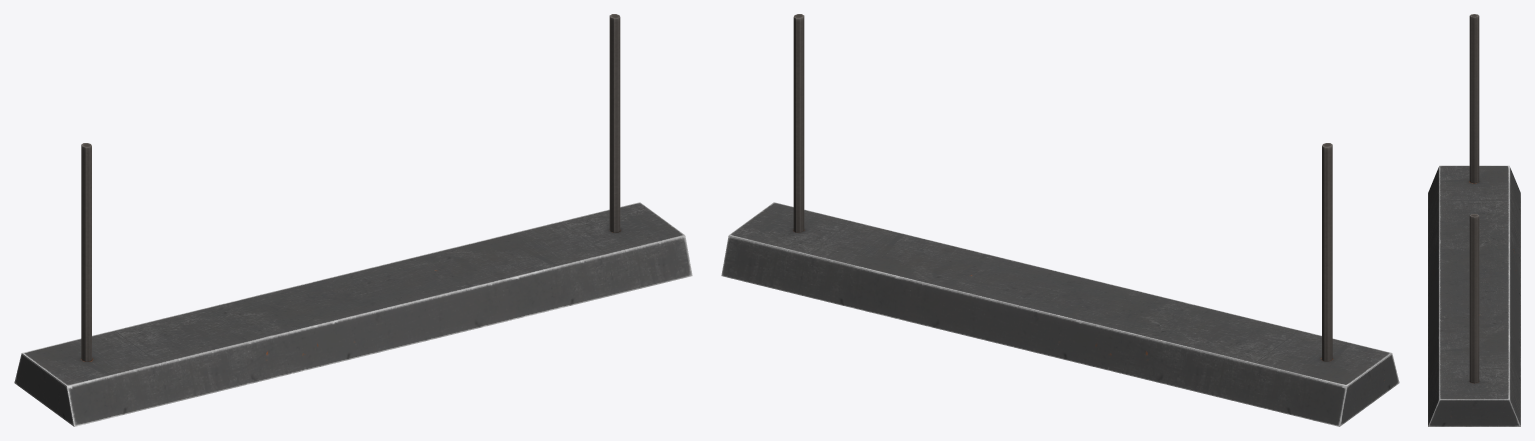
File: Light.fbx
The picture shows the model from 3 angles, left to right: view 1: azimuth 30°, elevation 25°; view 2: azimuth 150°, elevation 25°; view 3: azimuth 270°, elevation 25°; orthographic projection. The views are drawn at different scales.
Parts seen in each view (by area): view 1: Cube.010, Cylinder.003, Cylinder.002; view 2: Cube.010, Cylinder.003, Cylinder.002; view 3: Cube.010, Cylinder.002, Cylinder.003.
Part boxes in pixels (x1,y1,x2,y2): Cube.010: [14, 202, 692, 426]; Cylinder.003: [609, 14, 620, 232]; Cylinder.002: [81, 143, 91, 361]; Cube.010: [721, 202, 1399, 426]; Cylinder.003: [793, 14, 804, 232]; Cylinder.002: [1322, 143, 1332, 361]; Cube.010: [1428, 165, 1520, 426]; Cylinder.002: [1469, 14, 1479, 183]; Cylinder.003: [1469, 214, 1479, 382].
Bounding box in the file's own units: 1.71 × 0.6598 × 0.2873.
